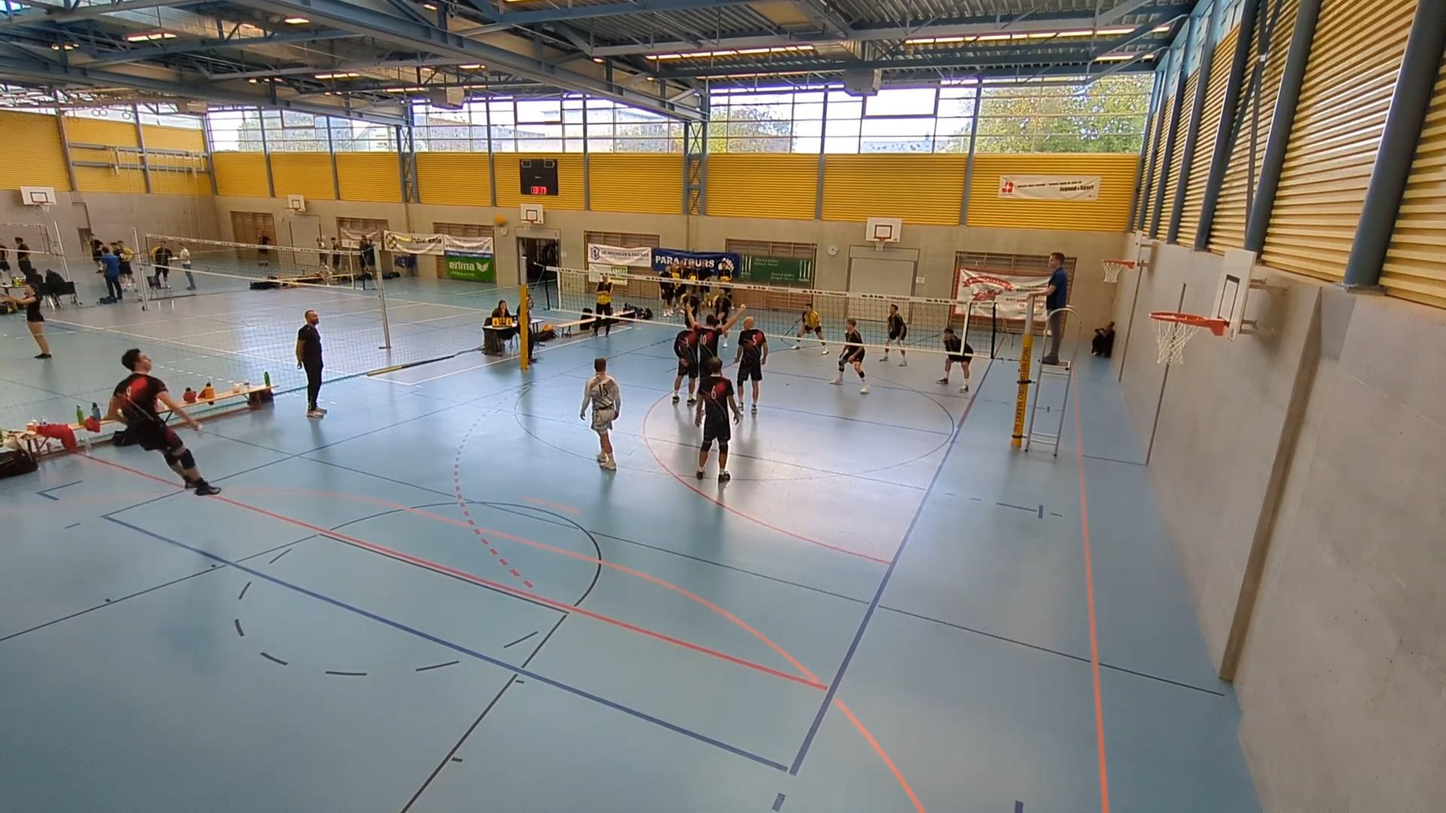Player: (695, 358, 741, 482), (580, 358, 621, 470), (685, 306, 745, 367), (735, 316, 768, 414), (831, 319, 868, 393), (938, 327, 972, 392), (672, 327, 699, 405), (793, 303, 826, 354), (883, 304, 908, 365), (713, 288, 733, 324)
Serve: (108, 345, 225, 505)
ball: (493, 211, 508, 228)
